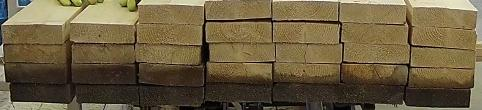Wood-Plank: (410, 26, 476, 50), (3, 40, 71, 63), (339, 2, 407, 24), (274, 22, 341, 44), (206, 21, 272, 43), (139, 64, 205, 86), (137, 22, 202, 44), (4, 63, 70, 84), (207, 63, 273, 84), (414, 7, 479, 28), (343, 23, 408, 44), (10, 83, 75, 104), (206, 0, 272, 20), (274, 64, 340, 84), (342, 64, 408, 84), (76, 85, 138, 106), (273, 0, 338, 20), (345, 44, 410, 64), (71, 64, 136, 84), (1, 23, 62, 44), (412, 48, 476, 68), (209, 43, 276, 62), (72, 44, 135, 64), (138, 4, 204, 23), (277, 44, 342, 63), (135, 45, 200, 64), (409, 69, 474, 88), (139, 87, 204, 106), (406, 88, 472, 106), (206, 84, 272, 102), (339, 86, 404, 104), (69, 24, 133, 42), (274, 85, 338, 102)
